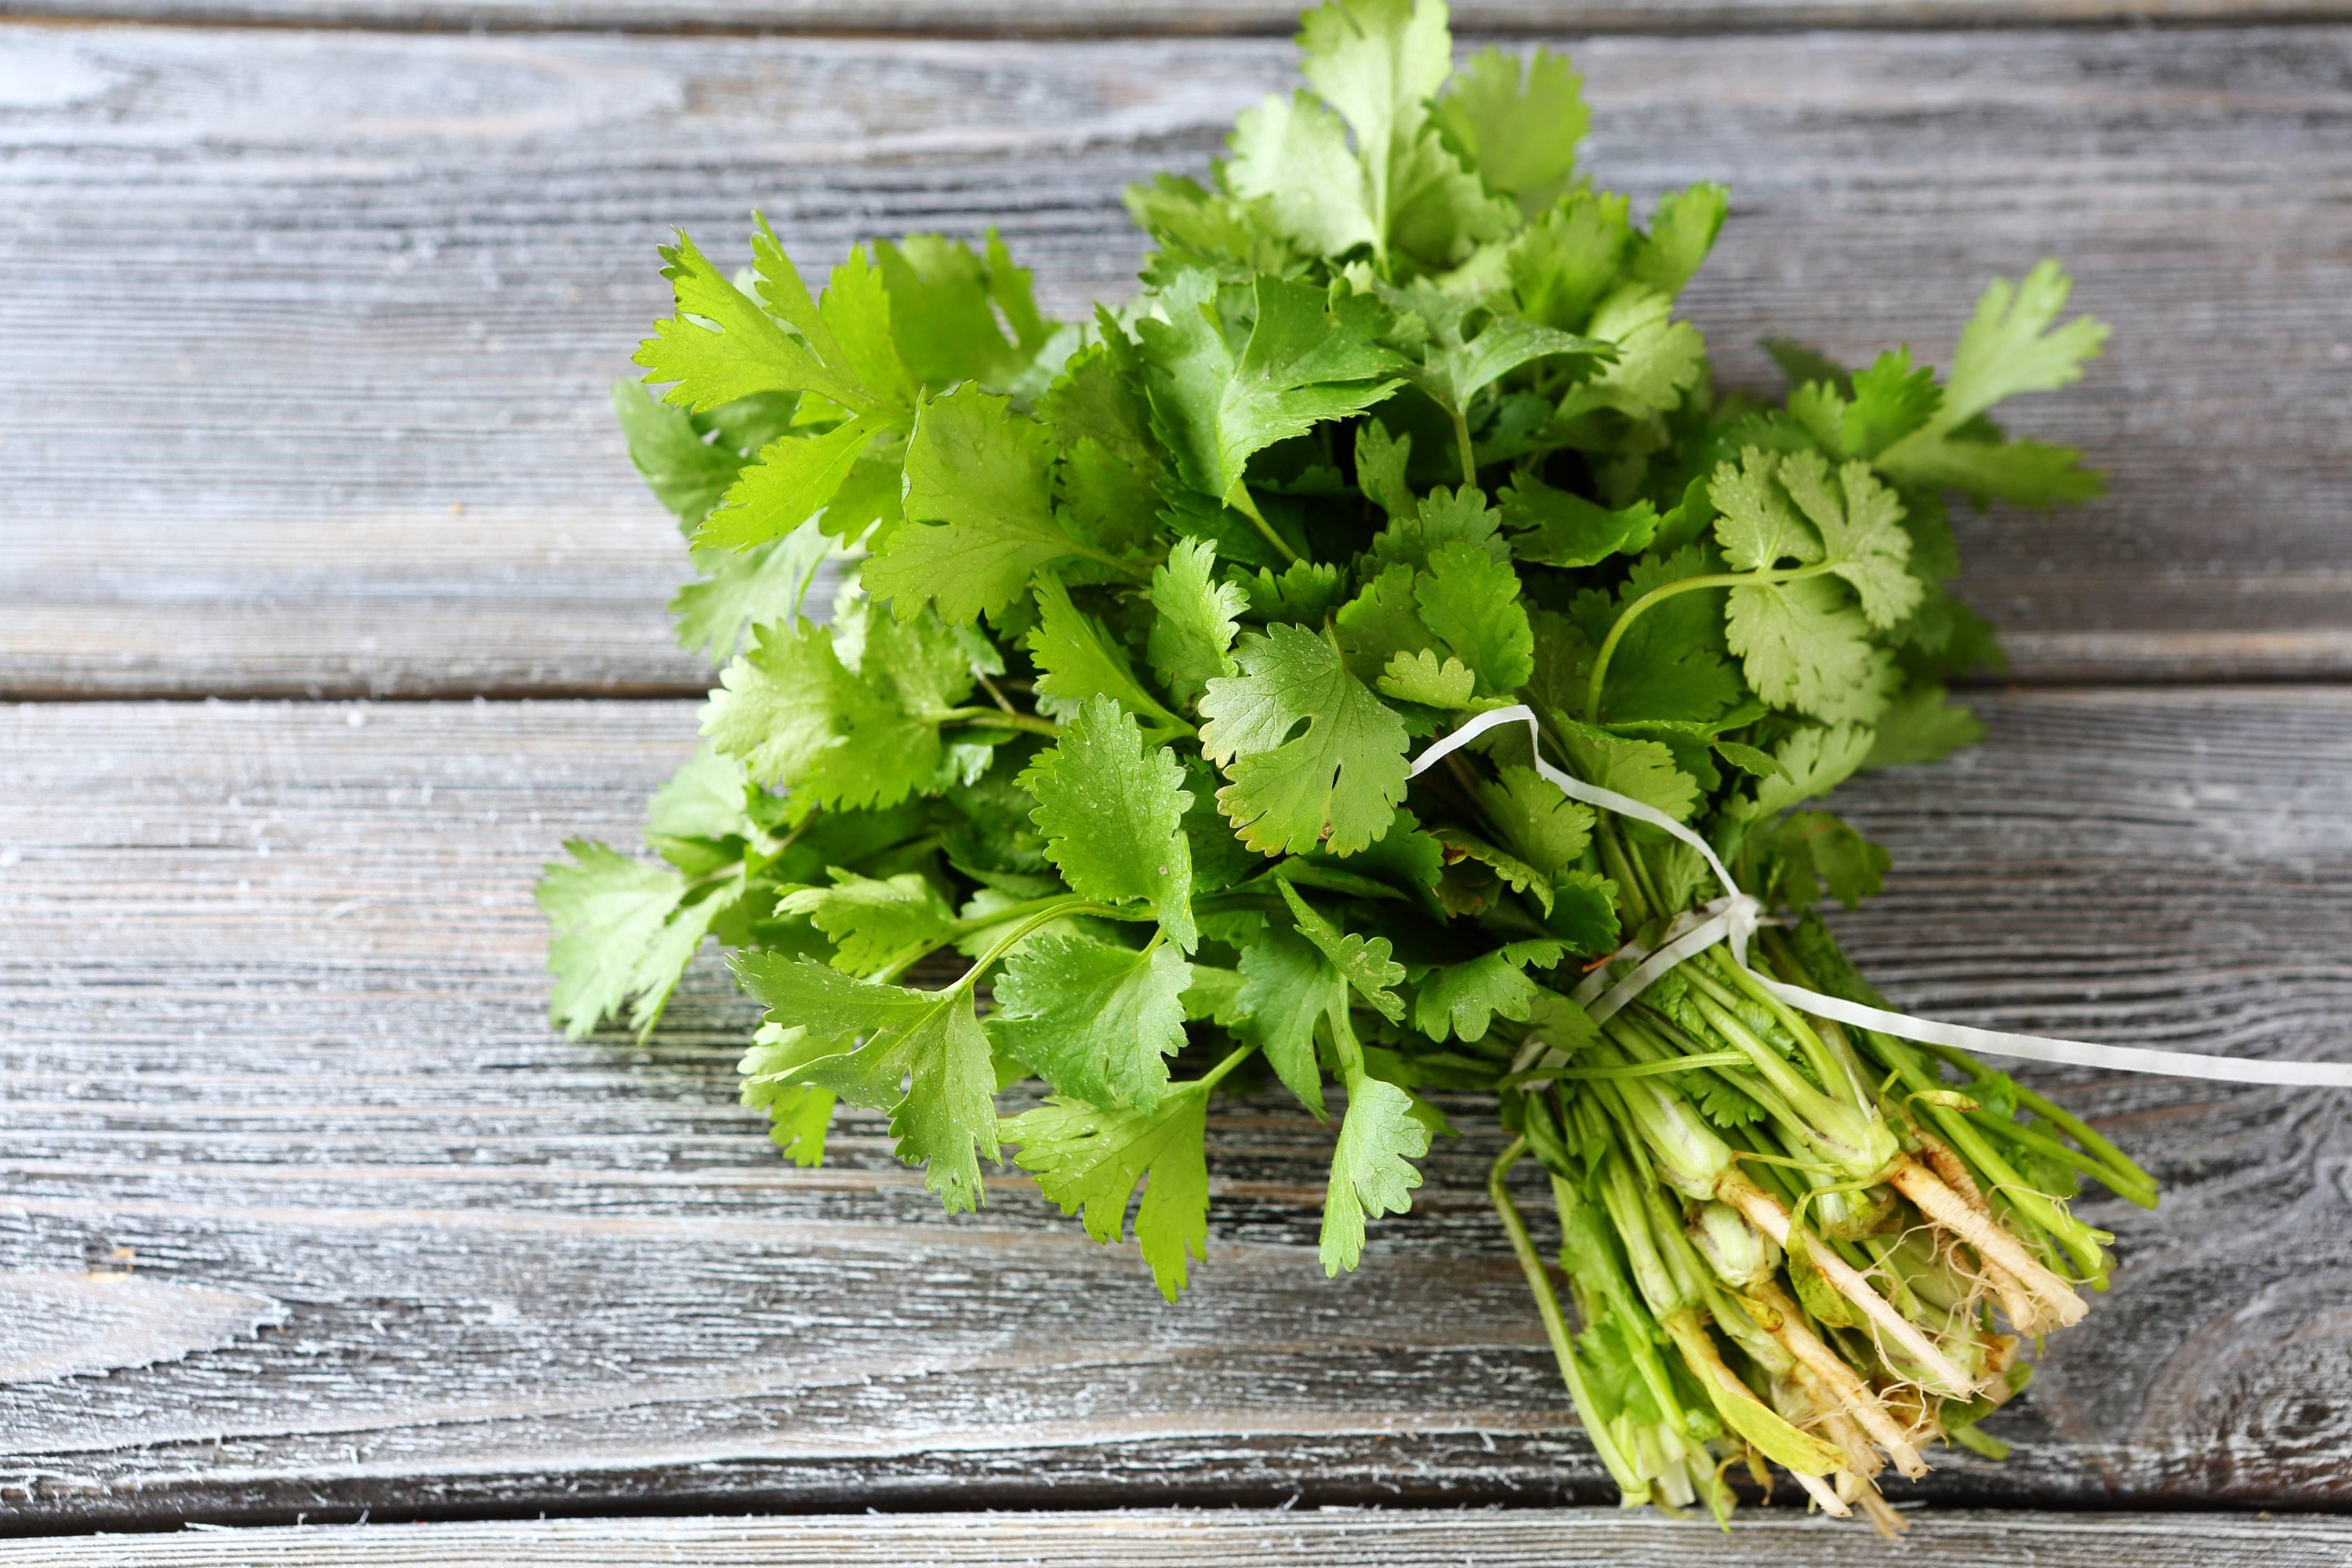Cilantro: (523, 5, 2179, 1557)
